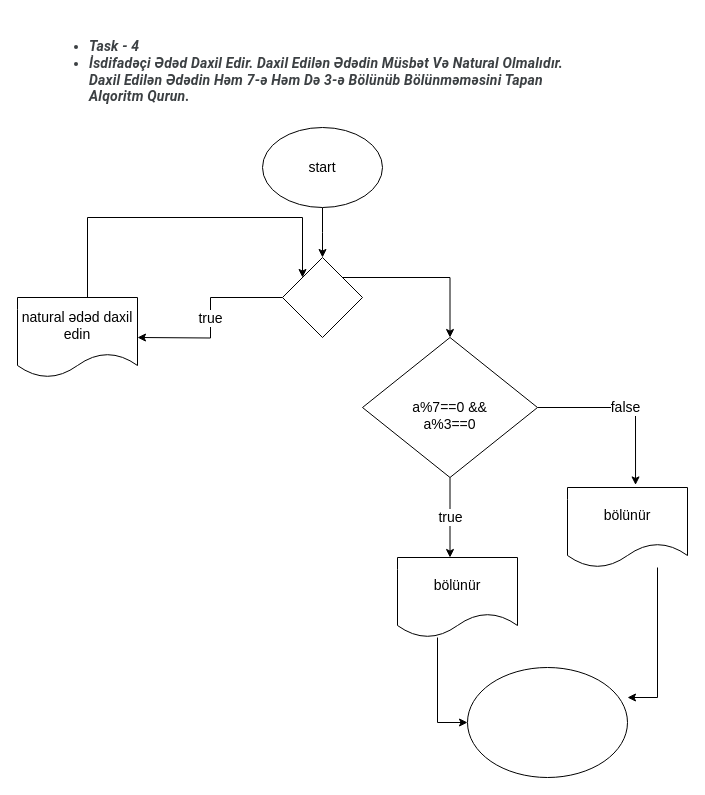
The diagram is 705 pixels wide and 795 high, and some of its shapes have lost their labels. The shapes that lost their labels are listed below. From the top down, each one's centre as x and y in pixels, then its label:
the point at 322,297: a>0
the point at 547,722: end
